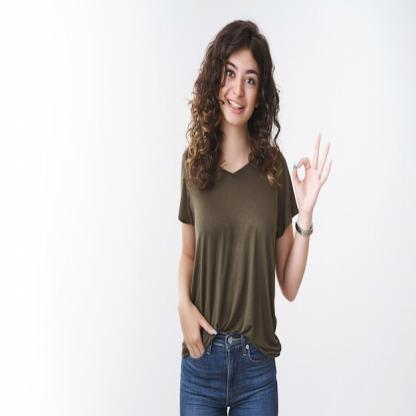ok: (290, 128, 336, 220)
